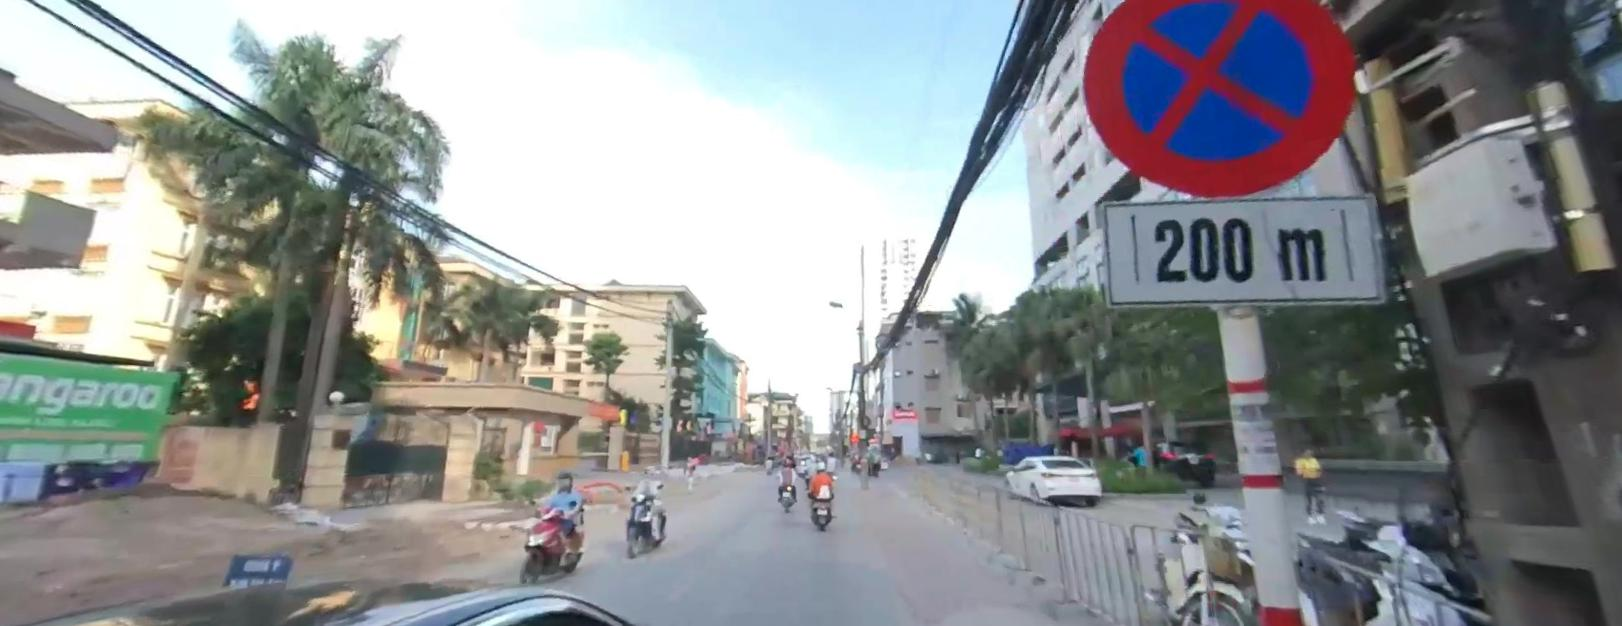Cam dung va do: (1080, 0, 1354, 199)
